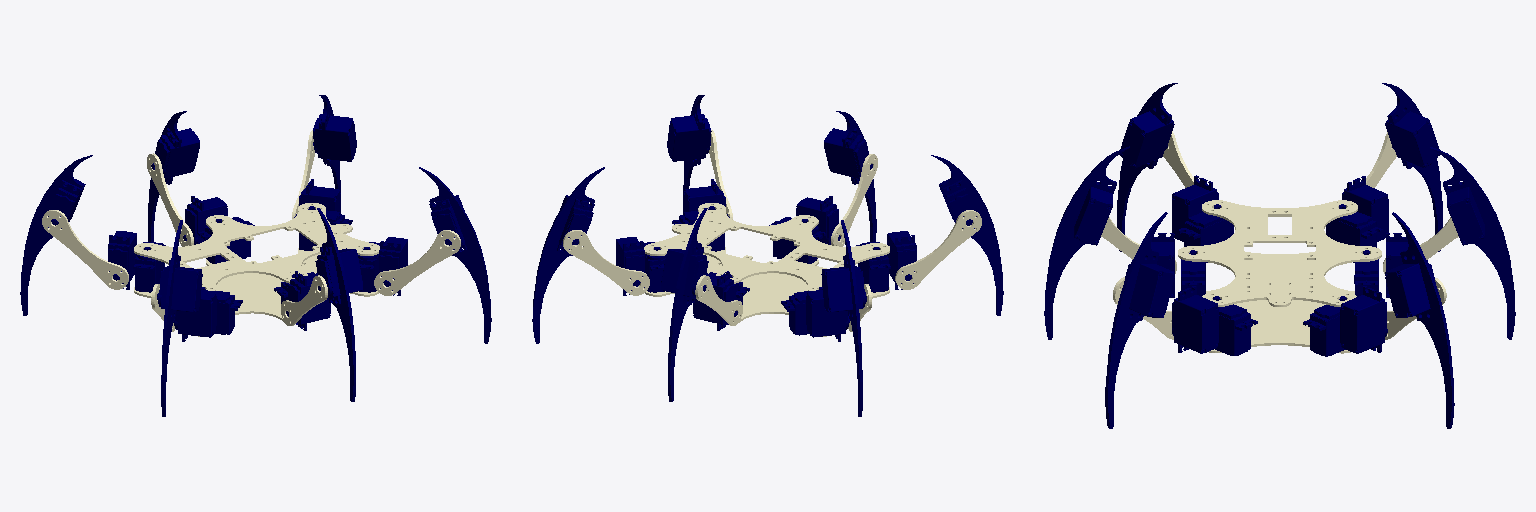
robot.urdf — Hexapod_1:
<?xml version="1.0"?>
<robot name="Hexapod_1">

	<material name="Blue">
	   	<color rgba="0 0 0.4 1.0"/>
	</material>

	<material name="White">
        <color rgba="0.96 0.94 0.81 1.0"/>
    </material>

	<link name="base1">
		<visual>
			<geometry>
				<mesh filename="new_parts5//base1.dae"/>
			</geometry>
			<origin xyz="0 0 0" rpy="1.57 0 0"/>
			<material name="White"/>
		</visual>
		<visual>
			<geometry>
				<mesh filename="new_parts5//base2.dae"/>
			</geometry>
			<origin xyz="0 0 0.041" rpy="1.57 0 0"/>
			<material name="White"/>
		</visual>

		<collision>
			<geometry>
				<mesh filename="new_parts5//base1.dae"/>
			</geometry>
			<origin rpy="1.57 0 0"/>
		</collision>
		<collision>
			<geometry>
				<mesh filename="new_parts5//base2.dae"/>
			</geometry>
			<origin xyz="0 0 0.041" rpy="1.57 0 0"/>
		</collision>
		
		<inertial>
			<mass value ="0.198"/>
			<inertia ixx="4.296e-8" ixy="0" ixz="0" iyy="1.493e-7" iyz="0" izz="1.063e-7"/>
		</inertial>
	</link>

	<link name="motor1_1">
		<visual>
			<geometry>
				<mesh filename="new_parts5//motor.dae"/>
			</geometry>
			<origin xyz="0 0 0" rpy="1.57 0 2.356"/>
			<material name="Blue"/>
		</visual>
		<collision>
			<geometry>
				<mesh filename="new_parts5//motor.dae"/>
			</geometry>
			<origin xyz="0 0 0" rpy="1.57 0 2.356"/>
		</collision>
		<inertial>
			<mass value ="0.055"/>
			<inertia ixx="2.410e-9" ixy="0" ixz="0" iyy="3.326e-9" iyz="0" izz="4.492e-9"/>
		</inertial>
	</link>
	<link name="motor2_1">
		<visual>
			<geometry>
				<mesh filename="new_parts5//motor.dae"/>
			</geometry>
			<origin xyz="0 0 0" rpy="1.57 0 3.14"/>
			<material name="Blue"/>
		</visual>
		<collision>
			<geometry>
				<mesh filename="new_parts5//motor.dae"/>
			</geometry>
			<origin xyz="0 0 0" rpy="1.57 0 3.14"/>
		</collision>
		<inertial>
			<mass value ="0.055"/>
			<inertia ixx="2.410e-9" ixy="0" ixz="0" iyy="3.326e-9" iyz="0" izz="4.492e-9"/>
		</inertial>
	</link>
	<link name="motor3_1">
		<visual>
			<geometry>
				<mesh filename="new_parts5//motor.dae"/>
			</geometry>
			<origin xyz="0 0 0" rpy="1.57 0 -2.321"/>
			<material name="Blue"/>
		</visual>
		<collision>
			<geometry>
				<mesh filename="new_parts5//motor.dae"/>
			</geometry>
			<origin xyz="0 0 0" rpy="1.57 0 -2.321"/>
		</collision>
		<inertial>
			<mass value ="0.055"/>
			<inertia ixx="2.410e-9" ixy="0" ixz="0" iyy="3.326e-9" iyz="0" izz="4.492e-9"/>
		</inertial>
	</link>
	<link name="motor4_1">
		<visual>
			<geometry>
				<mesh filename="new_parts5//motor.dae"/>
			</geometry>
			<origin xyz="0 0 0" rpy="1.57 0 2.356"/>
			<material name="Blue"/>
		</visual>
		<collision>
			<geometry>
				<mesh filename="new_parts5//motor.dae"/>
			</geometry>
			<origin xyz="0 0 0" rpy="1.57 0 2.356"/>
		</collision>
		<inertial>
			<mass value ="0.055"/>
			<inertia ixx="2.410e-9" ixy="0" ixz="0" iyy="3.326e-9" iyz="0" izz="4.492e-9"/>
		</inertial>
	</link>
	<link name="motor5_1">
		<visual>
			<geometry>
				<mesh filename="new_parts5//motor.dae"/>
			</geometry>
			<origin xyz="0 0 0" rpy="1.57 0 3.14"/>
			<material name="Blue"/>
		</visual>
		<collision>
			<geometry>
				<mesh filename="new_parts5//motor.dae"/>
			</geometry>
			<origin xyz="0 0 0" rpy="1.57 0 3.14"/>
		</collision>
		<inertial>
			<mass value ="0.055"/>
			<inertia ixx="2.410e-9" ixy="0" ixz="0" iyy="3.326e-9" iyz="0" izz="4.492e-9"/>
		</inertial>
	</link>
	<link name="motor6_1">
		<visual>
			<geometry>
				<mesh filename="new_parts5//motor.dae"/>
			</geometry>
			<origin xyz="0 0 0" rpy="1.57 0 -2.321"/>
			<material name="Blue"/>
		</visual>
		<collision>
			<geometry>
				<mesh filename="new_parts5//motor.dae"/>
			</geometry>
			<origin xyz="0 0 0" rpy="1.57 0 -2.321"/>
		</collision>
		<inertial>
			<mass value ="0.055"/>
			<inertia ixx="2.410e-9" ixy="0" ixz="0" iyy="3.326e-9" iyz="0" izz="4.492e-9"/>
		</inertial>
	</link>



	<link name="motor1_2">
		<visual>
			<geometry>
				<mesh filename="new_parts5//motor1.dae"/>
			</geometry>
			<origin xyz="0 0 0" rpy="-1.57 1.57 5.4977"/>
			<material name="Blue"/>
		</visual>
		<collision>
			<geometry>
				<mesh filename="new_parts5//motor1.dae"/>
			</geometry>
			<origin xyz="0 0 0" rpy="-1.57 1.57 5.4977"/>
		</collision>
		<inertial>
			<mass value ="0.055"/>
			<inertia ixx="2.410e-9" ixy="0" ixz="0" iyy="3.326e-9" iyz="0" izz="4.492e-9"/>
		</inertial>
	</link>

	<link name="motor2_2">
		<visual>
			<geometry>
				<mesh filename="new_parts5//motor1.dae"/>
			</geometry>
			<origin xyz="0 0 0" rpy="-1.57 1.57 0"/>
			<material name="Blue"/>
		</visual>
		<collision>
			<geometry>
				<mesh filename="new_parts5//motor1.dae"/>
			</geometry>
			<origin xyz="0 0 0" rpy="-1.57 1.57 0"/>
		</collision>
		<inertial>
			<mass value ="0.055"/>
			<inertia ixx="2.410e-9" ixy="0" ixz="0" iyy="3.326e-9" iyz="0" izz="4.492e-9"/>
		</inertial>
	</link>

	<link name="motor3_2">
		<visual>
			<geometry>
				<mesh filename="new_parts5//motor1.dae"/>
			</geometry>
			<origin xyz="0 0 0" rpy="-1.57 1.57 0.785"/>
			<material name="Blue"/>
		</visual>
		<collision>
			<geometry>
				<mesh filename="new_parts5//motor1.dae"/>
			</geometry>
			<origin xyz="0 0 0" rpy="-1.57 1.57 0.785"/>
		</collision>
		<inertial>
			<mass value ="0.055"/>
			<inertia ixx="2.410e-9" ixy="0" ixz="0" iyy="3.326e-9" iyz="0" izz="4.492e-9"/>
		</inertial>
	</link>

	<link name="motor4_2">
		<visual>
			<geometry>
				<mesh filename="new_parts5//motor1.dae"/>
			</geometry>
			<origin xyz="0 0 0" rpy="-1.57 1.57 -0.785"/>
			<material name="Blue"/>
		</visual>
		<collision>
			<geometry>
				<mesh filename="new_parts5//motor1.dae"/>
			</geometry>
			<origin xyz="0 0 0" rpy="-1.57 1.57 -0.785"/>
		</collision>
		<inertial>
			<mass value ="0.055"/>
			<inertia ixx="2.410e-9" ixy="0" ixz="0" iyy="3.326e-9" iyz="0" izz="4.492e-9"/>
		</inertial>
	</link>

	<link name="motor5_2">
		<visual>
			<geometry>
				<mesh filename="new_parts5//motor1.dae"/>
			</geometry>
			<origin xyz="0 0 0" rpy="-1.57 1.57 0"/>
			<material name="Blue"/>
		</visual>
		<collision>
			<geometry>
				<mesh filename="new_parts5//motor1.dae"/>
			</geometry>
			<origin xyz="0 0 0" rpy="-1.57 1.57 0"/>
		</collision>
		<inertial>
			<mass value ="0.055"/>
			<inertia ixx="2.410e-9" ixy="0" ixz="0" iyy="3.326e-9" iyz="0" izz="4.492e-9"/>
		</inertial>
	</link>

	<link name="motor6_2">
		<visual>
			<geometry>
				<mesh filename="new_parts5//motor1.dae"/>
			</geometry>
			<origin xyz="0 0 0" rpy="-1.57 1.57 0.785"/>
			<material name="Blue"/>
		</visual>
		<collision>
			<geometry>
				<mesh filename="new_parts5//motor1.dae"/>
			</geometry>
			<origin xyz="0 0 0" rpy="-1.57 1.57 0.785"/>
		</collision>
		<inertial>
			<mass value ="0.055"/>
			<inertia ixx="2.410e-9" ixy="0" ixz="0" iyy="3.326e-9" iyz="0" izz="4.492e-9"/>
		</inertial>
	</link>



	<link name="joint1">
		<visual>
			<geometry>
				<mesh filename="new_parts5//joint1.dae"/>
			</geometry>
			<origin xyz="0 0 0" rpy="0 -0.698 3.9269"/>
			<material name="White"/>
		</visual>
		<collision>
			<geometry>
				<mesh filename="new_parts5//joint1.dae"/>
			</geometry>
			<origin xyz="0 0 0" rpy="0 -0.698 3.9269"/>
		</collision>
		<inertial>
			<mass value ="0.015"/>
			<inertia ixx="1.611e-10" ixy="0" ixz="0" iyy="4.221e-9" iyz="0" izz="4.375e-9"/>
		</inertial>
	</link>

	<link name="joint2">
		<visual>
			<geometry>
				<mesh filename="new_parts5//joint1.dae"/>
			</geometry>
			<origin xyz="0 0 0" rpy="0 -0.698 -1.57"/>
			<material name="White"/>
		</visual>
		<collision>
			<geometry>
				<mesh filename="new_parts5//joint1.dae"/>
			</geometry>
			<origin xyz="0 0 0" rpy="0 -0.698 -1.57"/>
		</collision>
		<inertial>
			<mass value ="0.015"/>
			<inertia ixx="1.611e-10" ixy="0" ixz="0" iyy="4.221e-9" iyz="0" izz="4.375e-9"/>
		</inertial>
	</link>

	<link name="joint3">
		<visual>
			<geometry>
				<mesh filename="new_parts5//joint1.dae"/>
			</geometry>
			<origin xyz="0 0 0" rpy="0 -0.698 -0.785"/>
			<material name="White"/>
		</visual>
		<collision>
			<geometry>
				<mesh filename="new_parts5//joint1.dae"/>
			</geometry>
			<origin xyz="0 0 0" rpy="0 -0.698 -0.785"/>
		</collision>
		<inertial>
			<mass value ="0.015"/>
			<inertia ixx="1.611e-10" ixy="0" ixz="0" iyy="4.221e-9" iyz="0" izz="4.375e-9"/>
		</inertial>
	</link>

	<link name="joint4">
		<visual>
			<geometry>
				<mesh filename="new_parts5//joint1.dae"/>
			</geometry>
			<origin xyz="0 0 0" rpy="0 -0.698 0.785"/>
			<material name="White"/>
		</visual>
		<collision>
			<geometry>
				<mesh filename="new_parts5//joint1.dae"/>
			</geometry>
			<origin xyz="0 0 0" rpy="0 -0.698 0.785"/>
		</collision>
		<inertial>
			<mass value ="0.015"/>
			<inertia ixx="1.611e-10" ixy="0" ixz="0" iyy="4.221e-9" iyz="0" izz="4.375e-9"/>
		</inertial>
	</link>

	<link name="joint5">
		<visual>
			<geometry>
				<mesh filename="new_parts5//joint1.dae"/>
			</geometry>
			<origin xyz="0 0 0" rpy="0 -0.698 1.57"/>
			<material name="White"/>
		</visual>
		<collision>
			<geometry>
				<mesh filename="new_parts5//joint1.dae"/>
			</geometry>
			<origin xyz="0 0 0" rpy="0 -0.698 1.57"/>
		</collision>
		<inertial>
			<mass value ="0.015"/>
			<inertia ixx="1.611e-10" ixy="0" ixz="0" iyy="4.221e-9" iyz="0" izz="4.375e-9"/>
		</inertial>
	</link>

	<link name="joint6">
		<visual>
			<geometry>
				<mesh filename="new_parts5//joint1.dae"/>
			</geometry>
			<origin xyz="0 0 0" rpy="0 -0.698 2.356"/>
			<material name="White"/>
		</visual>
		<collision>
			<geometry>
				<mesh filename="new_parts5//joint1.dae"/>
			</geometry>
			<origin xyz="0 0 0" rpy="0 -0.698 2.356"/>
		</collision>
		<inertial>
			<mass value ="0.015"/>
			<inertia ixx="1.611e-10" ixy="0" ixz="0" iyy="4.221e-9" iyz="0" izz="4.375e-9"/>
		</inertial>
	</link>



	<link name="leg1">
		<visual>
			<geometry>
				<mesh filename="new_parts5//Legmotor456.dae"/>
			</geometry>
			<origin xyz="0 0 0" rpy="0 1.9198 0.785"/>
			<material name="Blue"/>
		</visual>
		<collision>
			<geometry>
				<mesh filename="new_parts5//Legmotor456.dae"/>
			</geometry>
			<origin xyz="0 0 0" rpy="0 1.9198 0.785"/>
		</collision>
		<inertial>
			<mass value ="0.076"/>
			<inertia ixx="1.875e-8" ixy="-2.011e-10" ixz="5.887e-10" iyy="1.937e-8" iyz="1.010e-9" izz="3.191e-9"/>
		</inertial>
	</link>

	<link name="leg2">
		<visual>
			<geometry>
				<mesh filename="new_parts5//Legmotor456.dae"/>
			</geometry>
			<origin xyz="0 0 0" rpy="0 1.9198 1.57"/>
			<material name="Blue"/>
		</visual>
		<collision>
			<geometry>
				<mesh filename="new_parts5//Legmotor456.dae"/>
			</geometry>
			<origin xyz="0 0 0" rpy="0 1.9198 1.57"/>
		</collision>
		<inertial>
			<mass value ="0.076"/>
			<inertia ixx="1.875e-8" ixy="-2.011e-10" ixz="5.887e-10" iyy="1.937e-8" iyz="1.010e-9" izz="3.191e-9"/>
		</inertial>
	</link>

	<link name="leg3">
		<visual>
			<geometry>
				<mesh filename="new_parts5//Legmotor456.dae"/>
			</geometry>
			<origin xyz="0 0 0" rpy="0 1.9198 2.356"/>
			<material name="Blue"/>
		</visual>
		<collision>
			<geometry>
				<mesh filename="new_parts5//Legmotor456.dae"/>
			</geometry>
			<origin xyz="0 0 0" rpy="0 1.9198 2.356"/>
		</collision>
		<inertial>
			<mass value ="0.076"/>
			<inertia ixx="1.875e-8" ixy="-2.011e-10" ixz="5.887e-10" iyy="1.937e-8" iyz="1.010e-9" izz="3.191e-9"/>
		</inertial>
	</link>

	<link name="leg4">
		<visual>
			<geometry>
				<mesh filename="new_parts5//Legmotor123.dae"/>
			</geometry>
			<origin xyz="0 0 0" rpy="0 1.22 0.7853"/>
			<material name="Blue"/>
		</visual>
		<collision>
			<geometry>
				<mesh filename="new_parts5//Legmotor123.dae"/>
			</geometry>
			<origin xyz="0 0 0" rpy="0 1.22 0.7853"/>
		</collision>
		<inertial>
			<mass value ="0.076"/>
			<inertia ixx="1.875e-8" ixy="-2.011e-10" ixz="5.887e-10" iyy="1.937e-8" iyz="1.010e-9" izz="3.191e-9"/>
		</inertial>
	</link>

	<link name="leg5">
		<visual>
			<geometry>
				<mesh filename="new_parts5//Legmotor123.dae"/>
			</geometry>
			<origin xyz="0 0 0" rpy="0 1.22 1.572"/>
			<material name="Blue"/>
		</visual>
		<collision>
			<geometry>
				<mesh filename="new_parts5//Legmotor123.dae"/>
			</geometry>
			<origin xyz="0 0 0" rpy="0 1.22 1.572"/>
		</collision>
		<inertial>
			<mass value ="0.076"/>
			<inertia ixx="1.875e-8" ixy="-2.011e-10" ixz="5.887e-10" iyy="1.937e-8" iyz="1.010e-9" izz="3.191e-9"/>
		</inertial>
	</link>

	<link name="leg6">
		<visual>
			<geometry>
				<mesh filename="new_parts5//Legmotor123.dae"/>
			</geometry>
			<origin xyz="0 0 0" rpy="0 1.22 2.356"/>
			<material name="Blue"/>
		</visual>
		<collision>
			<geometry>
				<mesh filename="new_parts5//Legmotor123.dae"/>
			</geometry>
			<origin xyz="0 0 0" rpy="0 1.22 2.356"/>
		</collision>
		<inertial>
			<mass value ="0.076"/>
			<inertia ixx="1.875e-8" ixy="-2.011e-10" ixz="5.887e-10" iyy="1.937e-8" iyz="1.010e-9" izz="3.191e-9"/>
		</inertial>
	</link>



	<joint name="base_motor1_1" type="revolute">
		<parent link="base1"/>
		<child link="motor1_1"/>
		<origin xyz="-0.0875 -0.0505 0.044" rpy="0 0 0"/>
		<axis xyz="0 0 -1"/>
		<limit effort="100" lower="-0.785" upper="0.785" velocity="100"/>
	</joint>

	<joint name="base_motor2_1" type="revolute">
		<parent link="base1"/>
		<child link="motor2_1"/>
		<origin xyz="0 -0.07 0.044" rpy="0 0 0"/>
		<axis xyz="0 0 -1"/>
		<limit effort="100" lower="-0.785" upper="0.785" velocity="100"/>
	</joint>

	<joint name="base_motor3_1" type="revolute">
		<parent link="base1"/>
		<child link="motor3_1"/>
		<origin xyz="0.088 -0.05091 0.044" rpy="0 0 0"/>
		<axis xyz="0 0 -1"/>
		<limit effort="100" lower="-0.785" upper="0.785" velocity="100"/>
	</joint>

	<joint name="base_motor4_1" type="revolute">
		<parent link="base1"/>
		<child link="motor4_1"/>
		<origin xyz="0.088 0.05091 0.044" rpy="0 0 0"/>
		<axis xyz="0 0 1"/>
		<limit effort="100" lower="-0.785" upper="0.785" velocity="100"/>
	</joint>

	<joint name="base_motor5_1" type="revolute">
		<parent link="base1"/>
		<child link="motor5_1"/>
		<origin xyz="0 0.07 0.044" rpy="0 0 0"/>
		<axis xyz="0 0 1"/>
		<limit effort="100" lower="-0.785" upper="0.785" velocity="100"/>
	</joint>

	<joint name="base_motor6_1" type="revolute">
		<parent link="base1"/>
		<child link="motor6_1"/>
		<origin xyz="-0.0875 0.0505 0.044" rpy="0 0 0"/>
		<axis xyz="0 0 1"/>
		<limit effort="100" lower="-0.785" upper="0.785" velocity="100"/>
	</joint>




	<joint name="motor1_1_motor1_2" type="fixed">
		<parent link="motor1_1"/>
		<child link="motor1_2"/>
		<origin xyz="-0.01298 -0.029084 -0.0152" rpy="0 0 0"/>
	</joint>

	<joint name="motor2_1_motor2_2" type="fixed">
		<parent link="motor2_1"/>
		<child link="motor2_2"/>
		<origin xyz="0.012 -0.03 -0.0152" rpy="0 0 0"/>
	</joint>

	<joint name="motor3_1_motor3_2" type="fixed">
		<parent link="motor3_1"/>
		<child link="motor3_2"/>
		<origin xyz="0.02906 -0.013169 -0.0152" rpy="0 0 0"/>
	</joint>

	<joint name="motor4_1_motor4_2" type="fixed">
		<parent link="motor4_1"/>
		<child link="motor4_2"/>
		<origin xyz="0.022064 0.005741 -0.0152" rpy="0 0 0"/>
	</joint>

	<joint name="motor5_1_motor5_2" type="fixed">
		<parent link="motor5_1"/>
		<child link="motor5_2"/>
		<origin xyz="0.012 0.02 -0.0152" rpy="0 0 0"/>
	</joint>

	<joint name="motor6_1_motor6_2" type="fixed">
		<parent link="motor6_1"/>
		<child link="motor6_2"/>
		<origin xyz="-0.005086 0.022207 -0.0152" rpy="0 0 0"/>
	</joint>




	<joint name="motor1_2_joint1" type="revolute">
		<parent link="motor1_2"/>
		<child link="joint1"/>
		<axis xyz="-1 1 0"/>
		<origin xyz="-0.019406 0.027138 -0.008358" rpy="0 0 0"/>
		<limit effort="100" lower="-0.885" upper="0.760" velocity="100"/>
	</joint>

	<joint name="motor2_2_joint2" type="revolute">
		<parent link="motor2_2"/>
		<child link="joint2"/>
		<axis xyz="-1 0 0"/>
		<origin xyz="-0.033041 0.005032 -0.008358" rpy="0 0 0"/>
		<limit effort="100" lower="-0.785" upper="0.785" velocity="100"/>
	</joint>

	<joint name="motor3_2_joint3" type="revolute">
		<parent link="motor3_2"/>
		<child link="joint3"/>
		<axis xyz="-1 -1 0"/>
		<origin xyz="-0.027087 -0.019871 -0.008358" rpy="0 0 0"/>
		<limit effort="100" lower="-0.785" upper="0.785" velocity="100"/>
	</joint>

	<joint name="motor4_2_joint4" type="revolute">
		<parent link="motor4_2"/>
		<child link="joint4"/>
		<axis xyz="1 -1 0"/>
		<origin xyz="-0.020091 0.027299 -0.008358" rpy="0 0 0"/>
		<limit effort="100" lower="-0.785" upper="0.785" velocity="100"/>
	</joint>

	<joint name="motor5_2_joint5" type="revolute">
		<parent link="motor5_2"/>
		<child link="joint5"/>
		<axis xyz="1 0 0"/>
		<origin xyz="-0.033041 0.004968 -0.008358" rpy="0 0 0"/>
		<limit effort="100" lower="-0.785" upper="0.785" velocity="100"/>
	</joint>

	<joint name="motor6_2_joint6" type="revolute">
		<parent link="motor6_2"/>
		<child link="joint6"/>
		<axis xyz="1 1 0"/>
		<origin xyz="-0.0273 -0.020261 -0.008358" rpy="0 0 0"/>
		<limit effort="100" lower="-0.785" upper="0.785" velocity="100"/>
	</joint>





	<joint name="joint1_leg1" type="revolute">
		<parent link="joint1"/>
		<child link="leg1"/>
		<axis xyz="-1 1 0"/>
		<origin xyz="-0.042462 -0.040337 0.049127" rpy="0 0 0"/>
		<limit effort="100" lower="-0.785" upper="0.785" velocity="100"/>
	</joint>

	<joint name="joint2_leg2" type="revolute">
		<parent link="joint2"/>
		<child link="leg2"/>
		<axis xyz="-1 0 0"/>
		<origin xyz="-0.00158 -0.058637 0.049127" rpy="0 0 0"/>
		<limit effort="100" lower="-0.785" upper="0.785" velocity="100"/>
	</joint>

	<joint name="joint3_leg3" type="revolute">
		<parent link="joint3"/>
		<child link="leg3"/>
		<axis xyz="-1 -1 0"/>
		<origin xyz="0.040529 -0.042293 0.049127" rpy="0 0 0"/>
		<limit effort="100" lower="-0.785" upper="0.785" velocity="100"/>
	</joint>

	<joint name="joint4_leg4" type="revolute">
		<parent link="joint4"/>
		<child link="leg4"/>
		<axis xyz="1 -1 0"/>
		<origin xyz="0.040529 0.042293 0.049127" rpy="0 0 0"/>
		<limit effort="100" lower="-0.785" upper="0.785" velocity="100"/>
	</joint>

	<joint name="joint5_leg5" type="revolute">
		<parent link="joint5"/>
		<child link="leg5"/>
		<axis xyz="1 0 0"/>
		<origin xyz="-0.00158 0.058637 0.049127" rpy="0 0 0"/>
		<limit effort="100" lower="-0.785" upper="0.785" velocity="100"/>
	</joint>

	<joint name="joint6_leg6" type="revolute">
		<parent link="joint6"/>
		<child link="leg6"/>
		<axis xyz="1 1 0"/>
		<origin xyz="-0.042462 0.040337 0.049127" rpy="0 0 0"/>
		<limit effort="100" lower="-0.785" upper="0.785" velocity="100"/>
	</joint>


</robot>

--- What the picture shows (computed from the rendered views, not written in the file) ---
3 views of the same robot in one strip: view 1: azimuth 30°, elevation 25°; view 2: azimuth 150°, elevation 25°; view 3: azimuth 270°, elevation 25° (orthographic).
Model Hexapod_1 with 25 links and 24 joints (18 revolute, 6 fixed), rooted at base1, posed every joint at zero.
Links seen in each view (by area): view 1: base1, leg2, leg3, leg1, leg6, leg5, leg4, joint6, joint3, motor1_2, motor5_2, joint5 (+9 smaller); view 2: base1, leg5, leg4, leg6, leg1, leg2, leg3, joint1, joint4, motor6_2, motor2_2, motor1_2 (+9 smaller); view 3: base1, leg3, leg4, leg2, leg5, leg6, leg1, motor4_2, motor3_2, motor3_1, motor4_1, motor1_2 (+13 smaller).
Boxes of the visible links, bbox=[...] form: base1: bbox=[134, 203, 379, 336]; leg2: bbox=[315, 208, 362, 401]; leg3: bbox=[419, 167, 491, 343]; leg1: bbox=[157, 220, 202, 416]; leg6: bbox=[20, 155, 92, 315]; leg5: bbox=[148, 111, 199, 241]; leg4: bbox=[313, 95, 356, 192]; joint6: bbox=[42, 210, 128, 289]; joint3: bbox=[374, 230, 460, 295]; motor1_2: bbox=[173, 290, 216, 341]; motor5_2: bbox=[183, 196, 227, 244]; joint5: bbox=[147, 153, 193, 246]; base1: bbox=[644, 203, 889, 336]; leg5: bbox=[661, 208, 708, 401]; leg4: bbox=[532, 167, 604, 343]; leg6: bbox=[821, 220, 866, 416]; leg1: bbox=[931, 155, 1003, 315]; leg2: bbox=[824, 111, 876, 241]; leg3: bbox=[667, 95, 711, 214]; joint1: bbox=[895, 210, 981, 289]; joint4: bbox=[563, 230, 649, 295]; motor6_2: bbox=[806, 290, 849, 341]; motor2_2: bbox=[796, 196, 840, 244]; motor1_2: bbox=[887, 231, 916, 289]; base1: bbox=[1178, 200, 1381, 353]; leg3: bbox=[1105, 212, 1174, 428]; leg4: bbox=[1385, 212, 1454, 428]; leg2: bbox=[1044, 146, 1129, 339]; leg5: bbox=[1430, 147, 1515, 339]; leg6: bbox=[1382, 83, 1442, 251]; leg1: bbox=[1117, 83, 1177, 251]; motor4_2: bbox=[1340, 286, 1387, 353]; motor3_2: bbox=[1172, 286, 1218, 353]; motor3_1: bbox=[1213, 296, 1257, 355]; motor4_1: bbox=[1303, 296, 1346, 356]; motor1_2: bbox=[1172, 175, 1218, 241].
Size in the robot's own frame: 0.3467 by 0.3802 by 0.1711 metres.
Meshes: 7 distinct files referenced, 26 mesh visuals loaded (7 Collada DAE).